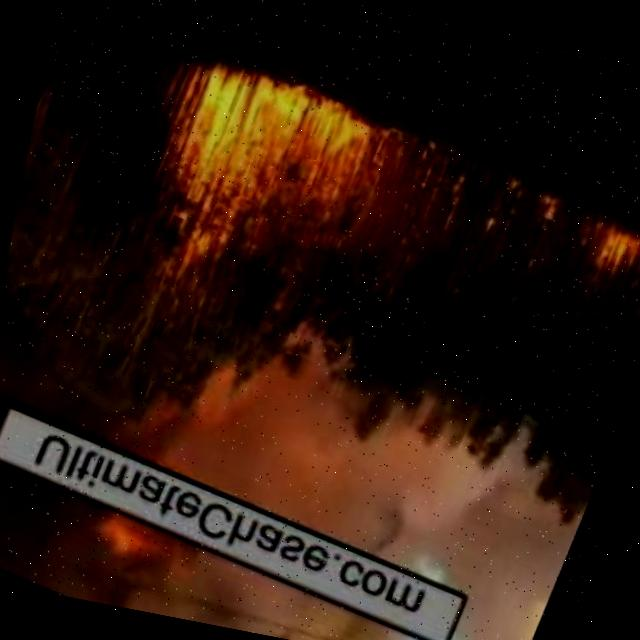fire: (115, 36, 398, 327), (94, 508, 167, 560), (580, 210, 640, 272), (533, 185, 571, 218)
